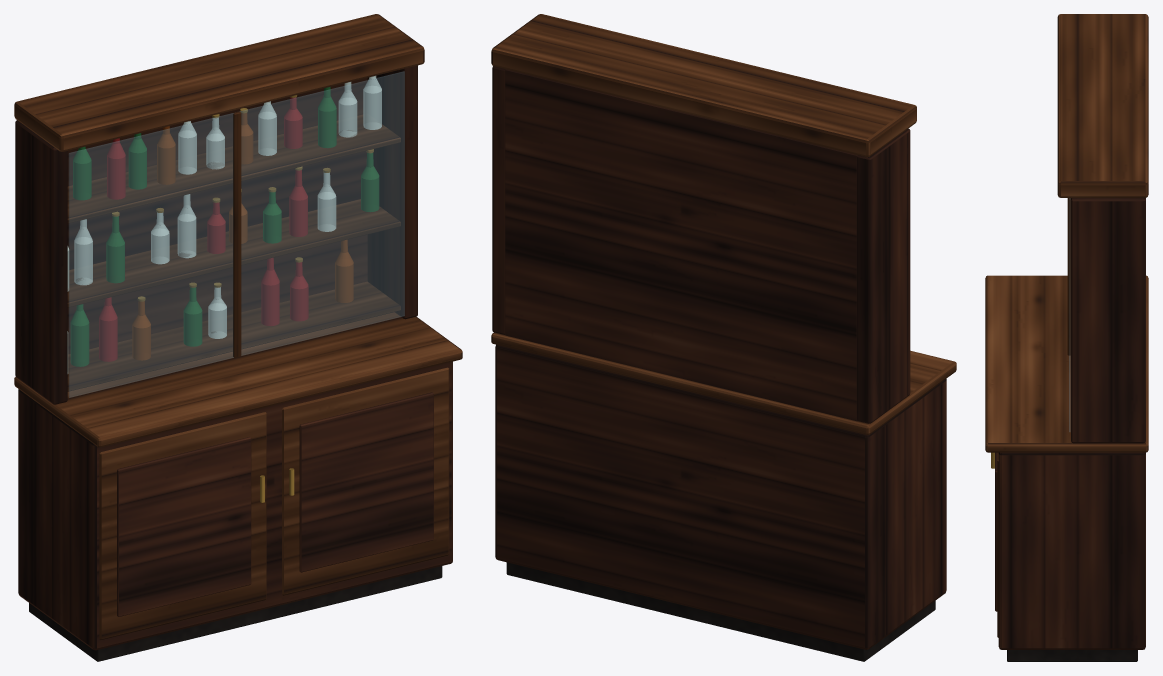
The model's file is bar_shelf.glb.
3 views of the same model, side by side, from view 1: azimuth 30°, elevation 25°; view 2: azimuth 150°, elevation 25°; view 3: azimuth 270°, elevation 25° (orthographic). The views are drawn at different scales.
Parts seen in each view (by area): view 1: bar_shelf; view 2: bar_shelf; view 3: bar_shelf.
Part boxes in pixels (left/top/right/bottom): bar_shelf: left=14, top=14, right=462, bottom=661; bar_shelf: left=491, top=14, right=956, bottom=661; bar_shelf: left=985, top=14, right=1148, bottom=661.
Bounding box in the file's own units: 1.5 × 2 × 0.61.
Materials: 10 (4 with a texture image).
